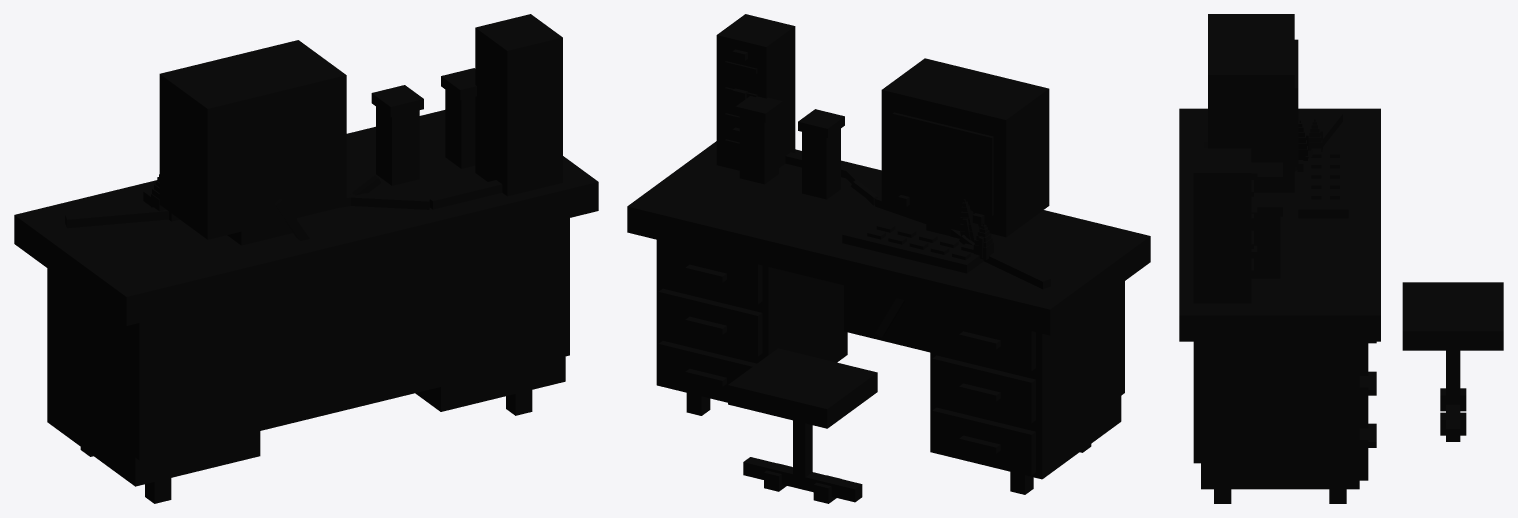
File: lab_workbench_eroded.obj
The picture shows the model from 3 angles, left to right: view 1: azimuth 30°, elevation 25°; view 2: azimuth 150°, elevation 25°; view 3: azimuth 270°, elevation 25°; orthographic projection. The views are drawn at different scales.
Size of the model in its own units: 0.875 by 0.682 by 0.579.
